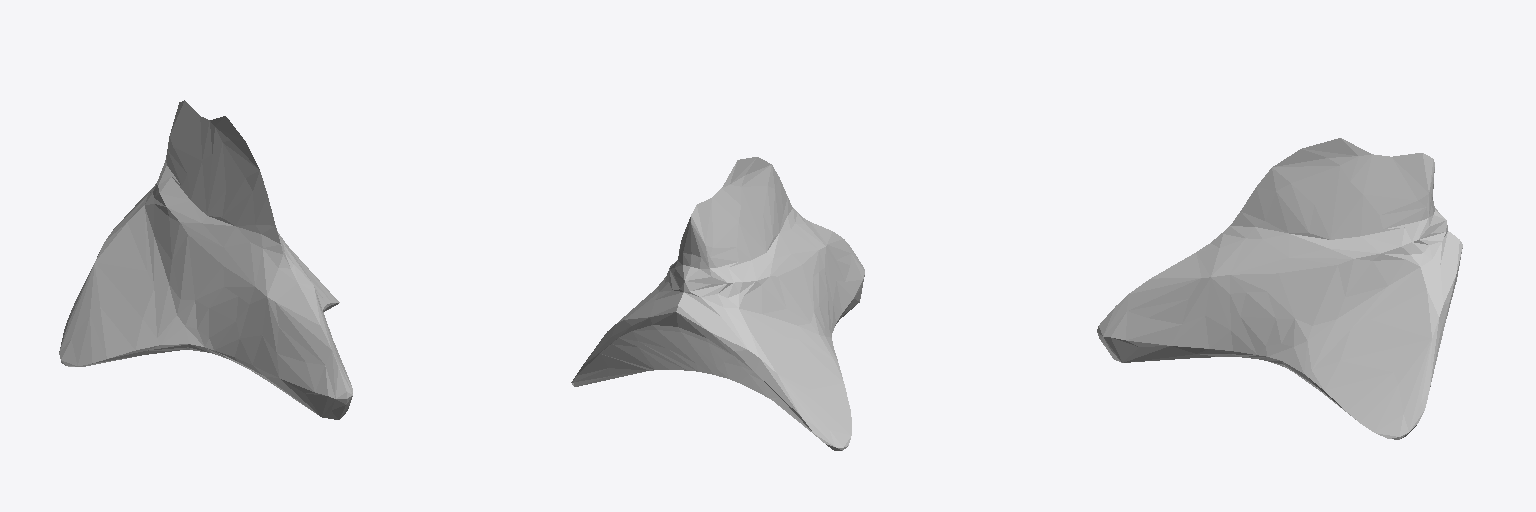
The model's file is Vertibrae3.OBJ.
3 renders of one model, left to right at view 1: azimuth 30°, elevation 25°; view 2: azimuth 150°, elevation 25°; view 3: azimuth 270°, elevation 25°, orthographic.
Parts seen in each view (by area): view 1: Group45921; view 2: Group45921; view 3: Group45921.
Boxes of the visible parts, x1=… form: Group45921: x1=59, y1=100, x2=352, y2=419; Group45921: x1=571, y1=157, x2=864, y2=450; Group45921: x1=1097, y1=138, x2=1462, y2=439.
Size of the model in its own units: 3.81 by 3.18 by 4.47.